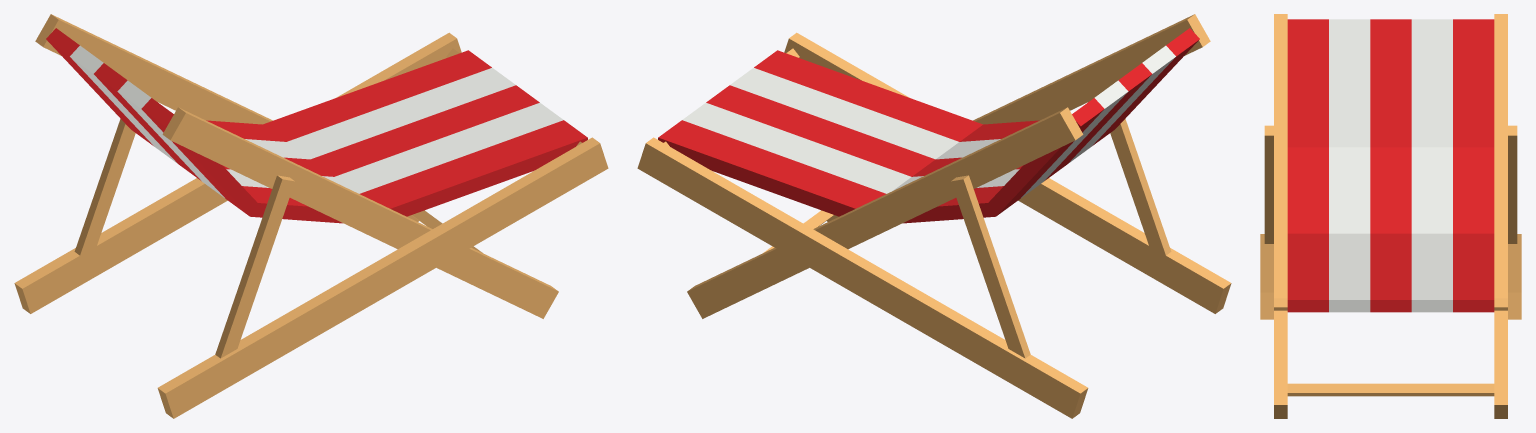
File: beachChairA.FBX
3 views of the same model, side by side, from view 1: azimuth 30°, elevation 25°; view 2: azimuth 150°, elevation 25°; view 3: azimuth 270°, elevation 25° (orthographic). The views are drawn at different scales.
Visible parts, largest first — view 1: beachChairA; view 2: beachChairA; view 3: beachChairA.
Boxes of the visible parts, x1,y1,x2,y2 form: beachChairA: (14, 14, 608, 418); beachChairA: (637, 14, 1231, 418); beachChairA: (1260, 14, 1521, 418).
Size of the model in its own units: 0.2872 by 0.183 by 0.1696.
